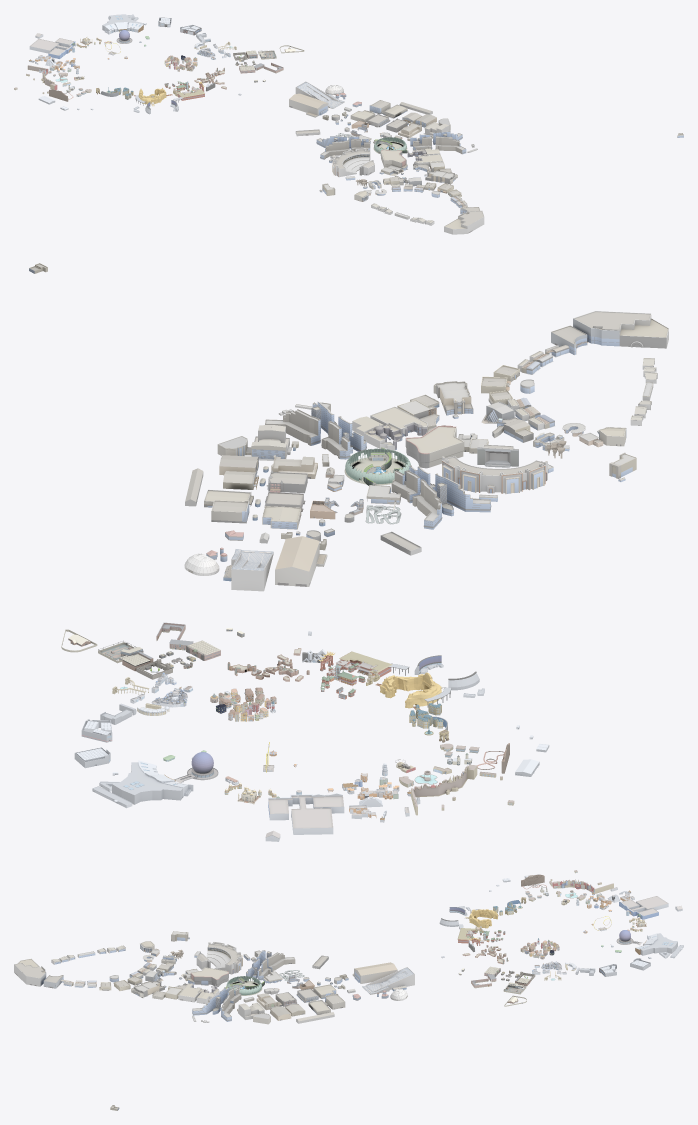
File: Boulevard-City.glb
3 views of the same model, one above another, from view 1: azimuth 30°, elevation 25°; view 2: azimuth 150°, elevation 25°; view 3: azimuth 270°, elevation 25° (orthographic). The views are drawn at different scales.
Parts seen in each view (by area): view 1: 70030076454637639, 70030076454680247, 70030076454587731, 70030076680675275.001, 70030076681980009.001, 70030076454586858, 70030076454622780, 70030076454627367, 70030076454614481, boulevard1, 70030076454616583; view 2: 70030076454680247, 70030076454637639, 70030076680675275.001, 70030076681980009.001, 70030076454587731, 70030076454622780, 70030076454627367, boulevard1, 70030076454586858, Boulevard_World_The_Input_baked, 70030076454575833, 70030076454614556 (+5 smaller); view 3: 70030076454637639, 70030076454586858, 70030076680675275.001, 70030076454680247, 70030076454587731, 70030076681980009.001, 70030076454627367, 70030076454622780, boulevard1, 70030076677052864_baked, Boulevard_World_The_Input_baked, 70030076454648335.
Boxes of the visible parts, <box> form: 70030076454637639: <box>332,148,370,177</box>; 70030076454680247: <box>444,210,484,234</box>; 70030076454587731: <box>289,93,328,117</box>; 70030076680675275.001: <box>29,38,75,58</box>; 70030076681980009.001: <box>102,14,143,34</box>; 70030076454586858: <box>295,81,344,108</box>; 70030076454622780: <box>407,148,443,166</box>; 70030076454627367: <box>380,149,407,170</box>; 70030076454614481: <box>435,136,466,154</box>; boulevard1: <box>373,137,407,153</box>; 70030076454616583: <box>320,140,349,159</box>; 70030076454680247: <box>573,311,668,348</box>; 70030076454637639: <box>442,456,547,494</box>; 70030076680675275.001: <box>268,793,344,834</box>; 70030076681980009.001: <box>112,760,193,804</box>; 70030076454587731: <box>275,536,327,586</box>; 70030076454622780: <box>352,406,427,450</box>; 70030076454627367: <box>405,425,464,468</box>; boulevard1: <box>344,448,410,485</box>; 70030076454586858: <box>231,549,273,591</box>; Boulevard_World_The_Input_baked: <box>375,672,443,709</box>; 70030076454575833: <box>251,425,291,460</box>; 70030076454614556: <box>265,409,320,445</box>; 70030076454637639: <box>206,941,242,974</box>; 70030076454586858: <box>362,967,414,994</box>; 70030076680675275.001: <box>619,896,668,919</box>; 70030076454680247: <box>14,958,46,986</box>; 70030076454587731: <box>352,962,397,983</box>; 70030076681980009.001: <box>635,933,677,955</box>; 70030076454627367: <box>188,967,228,987</box>; 70030076454622780: <box>178,983,219,1004</box>; boulevard1: <box>226,976,262,995</box>; 70030076677052864_baked: <box>552,879,613,893</box>; Boulevard_World_The_Input_baked: <box>464,909,498,928</box>; 70030076454648335: <box>131,979,164,998</box>.
Bounding box in the file's own units: 1602 × 43.24 × 1895.
Materials: 270 (270 with a texture image).
